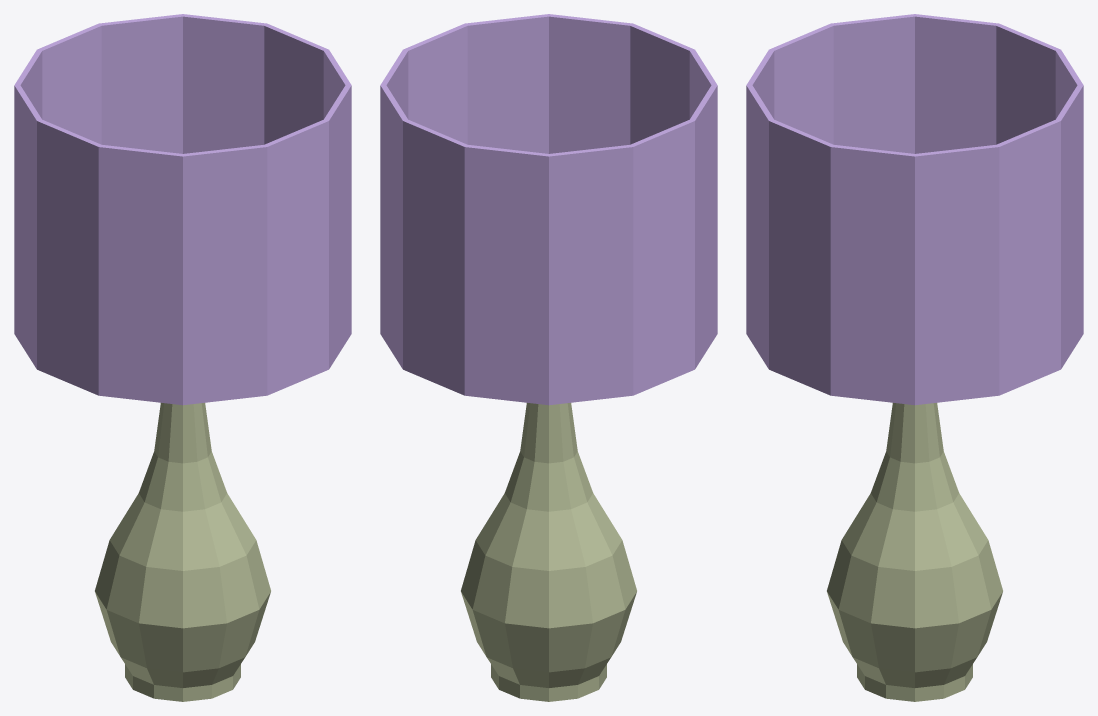
File: Lamp_1.fbx
The picture shows the model from 3 angles, left to right: view 1: azimuth 30°, elevation 25°; view 2: azimuth 150°, elevation 25°; view 3: azimuth 270°, elevation 25°; orthographic projection.
Parts seen in each view (by area): view 1: Lamp_1; view 2: Lamp_1; view 3: Lamp_1.
Part boxes in pixels (x1,y1,x2,y2): Lamp_1: (14,14,351,701); Lamp_1: (380,14,717,701); Lamp_1: (746,14,1083,701).
Bounding box in the file's own units: 45.51 × 45.51 × 88.16.
